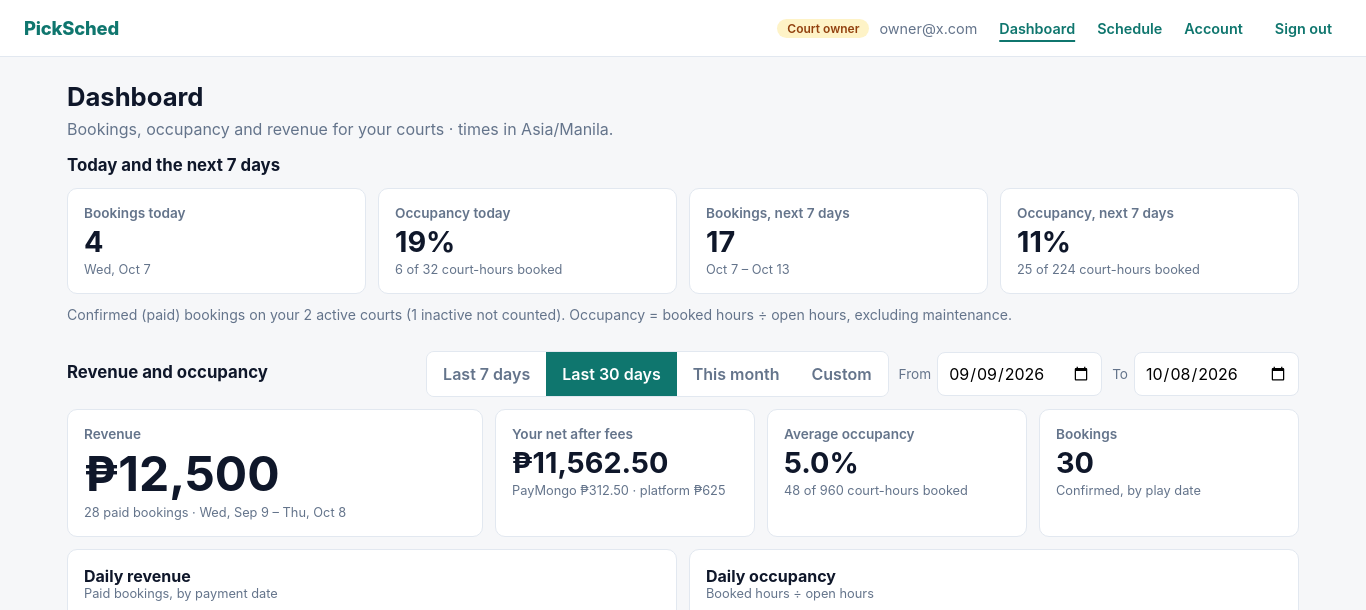
Test: metrics › applies a custom range, and rejects an end date before the start date
Expected: the text "Bookings today" is shown, x1=84 y1=205 x2=186 y2=221
Type "2026-09-01" into the date field labelled "From" at (1020, 374), box x1=937 y1=352 x2=1102 y2=396
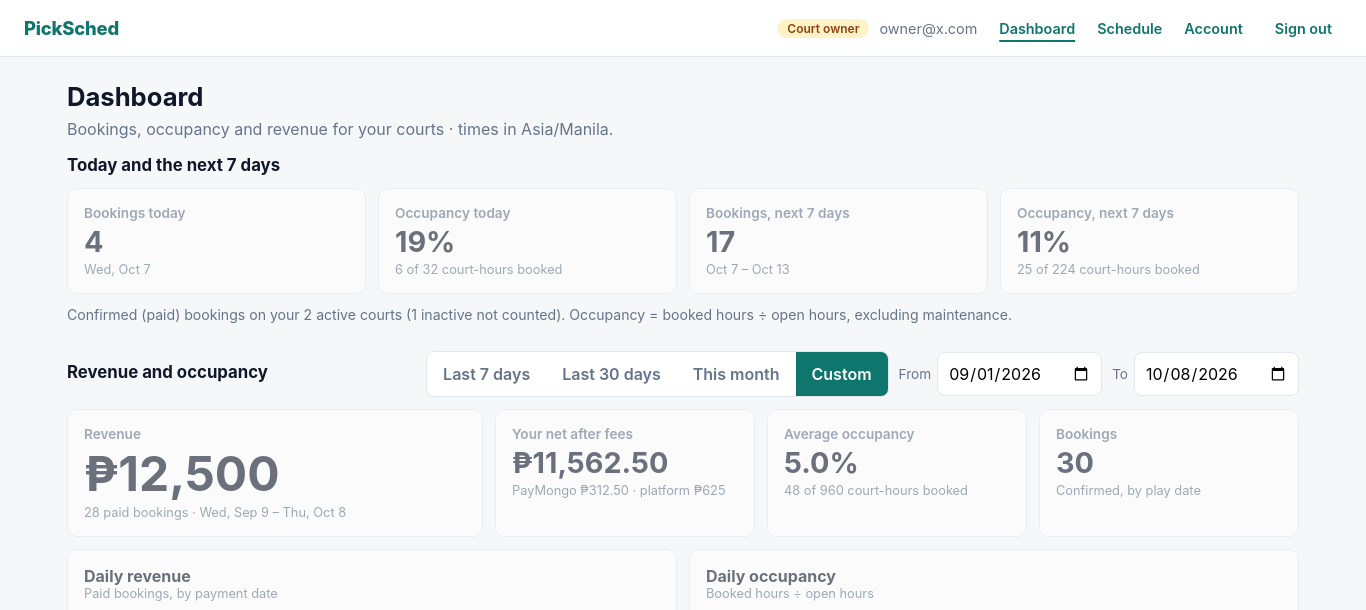
Type "2026-09-10" into the date field labelled "To" at (1216, 374), box x1=1134 y1=352 x2=1299 y2=396
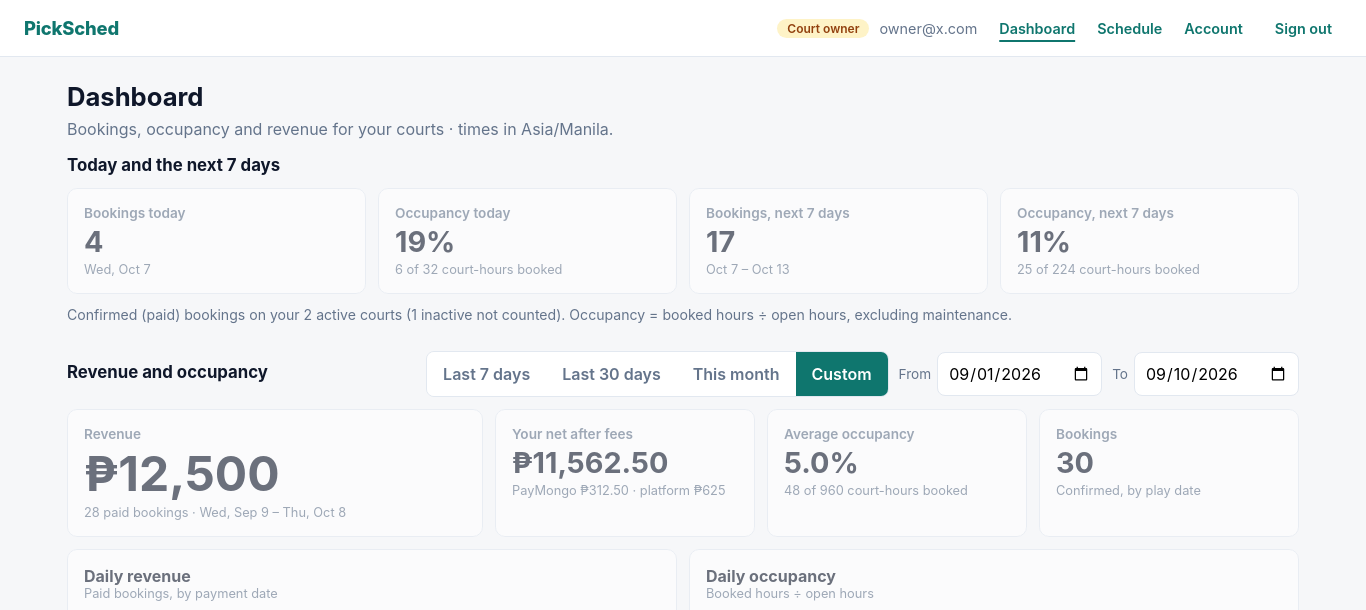
Type "2026-08-15" into the date field labelled "To" at (1216, 374), box x1=1134 y1=352 x2=1299 y2=396
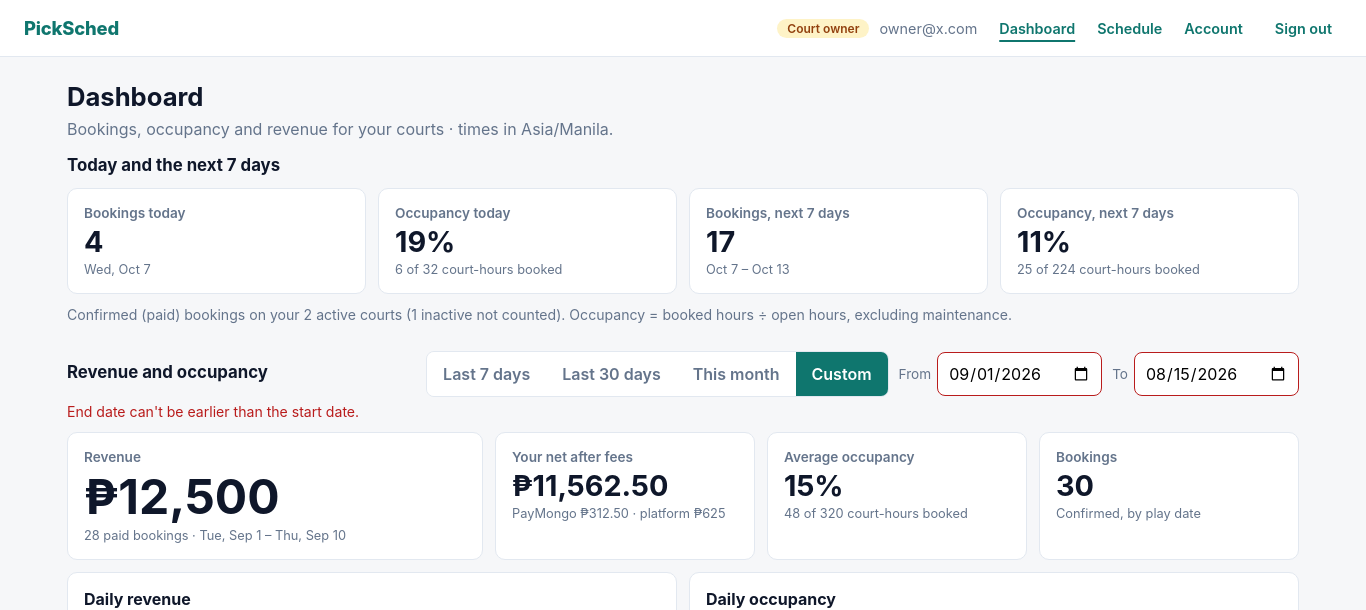
Expected: the text "End date can't be earlier than the start date." is shown, x1=67 y1=403 x2=359 y2=420
